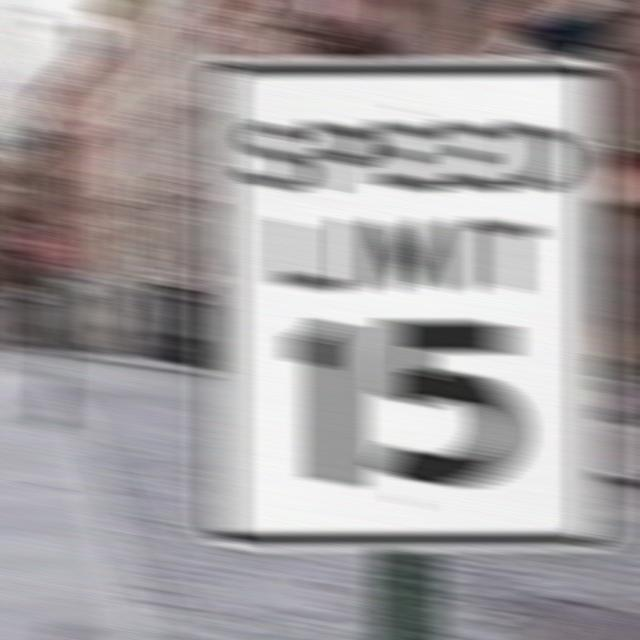speedLimit15: (200, 55, 614, 549)
